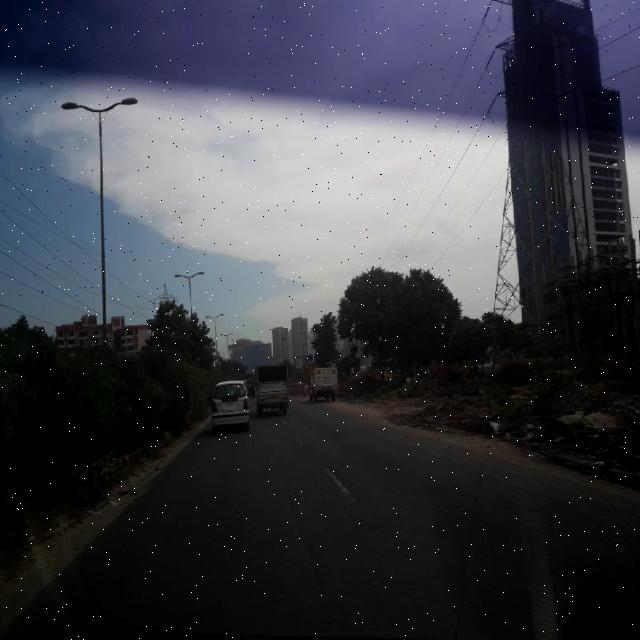D44: (322, 460, 362, 510)
